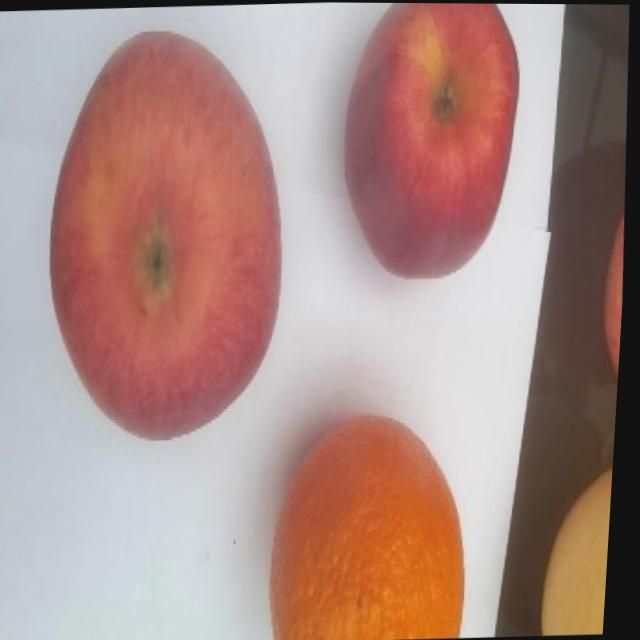Apple: (34, 25, 302, 447), (332, 2, 530, 283)
Orange: (266, 411, 481, 640)
